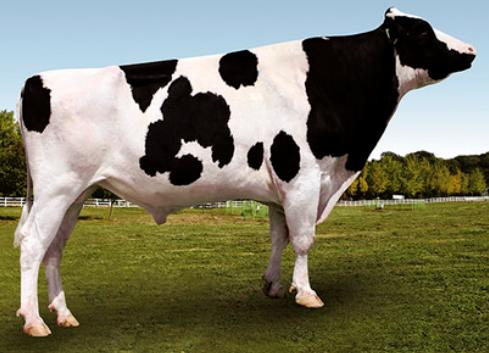cow: (20, 16, 475, 337)
